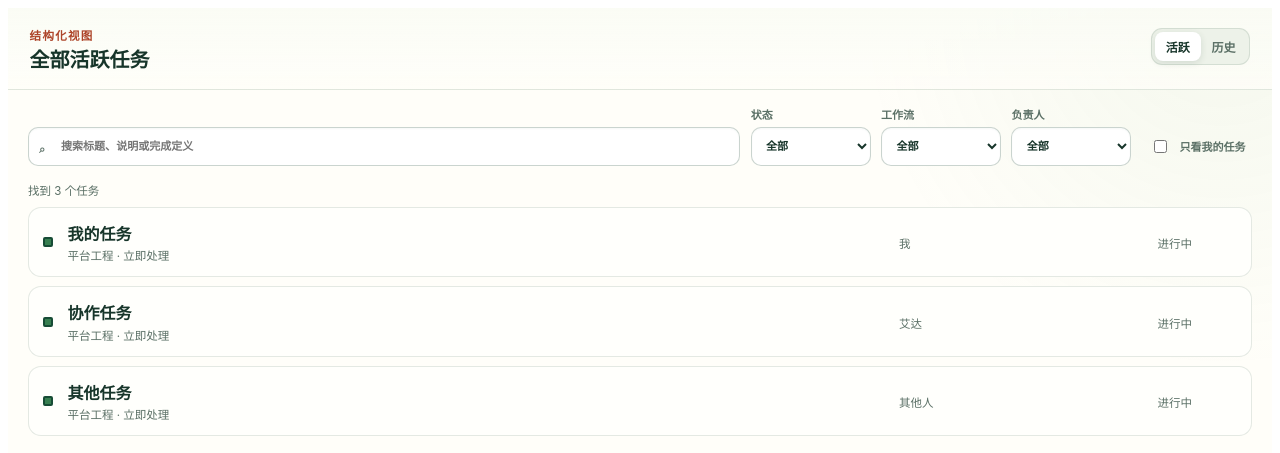
Test case: TaskList › filters to tasks owned or collaborated on by the current member
Click the checkbox labelled "只看我的任务": (1161, 146) [1152, 140, 1169, 153]
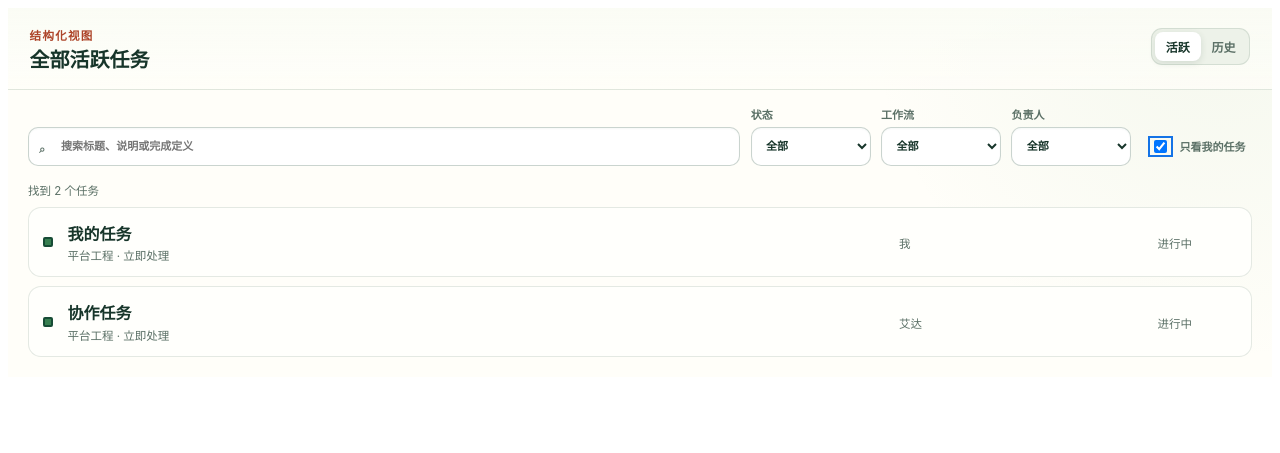
Expected: the text "我的任务" is shown, [67, 224, 131, 244]
Now the button "其他任务" is gone
